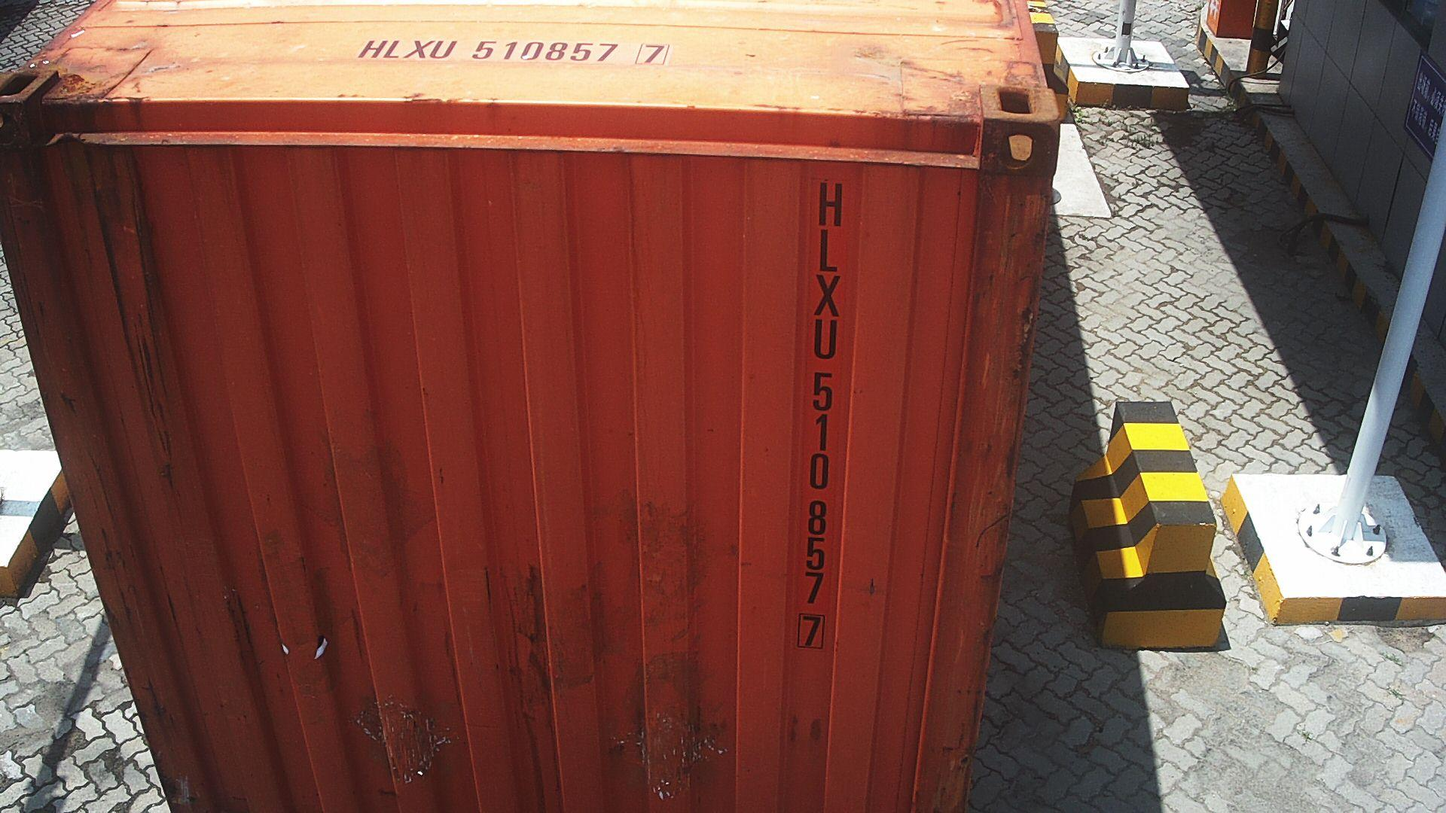container-numbers: (794, 177, 847, 653), (349, 35, 682, 69)
